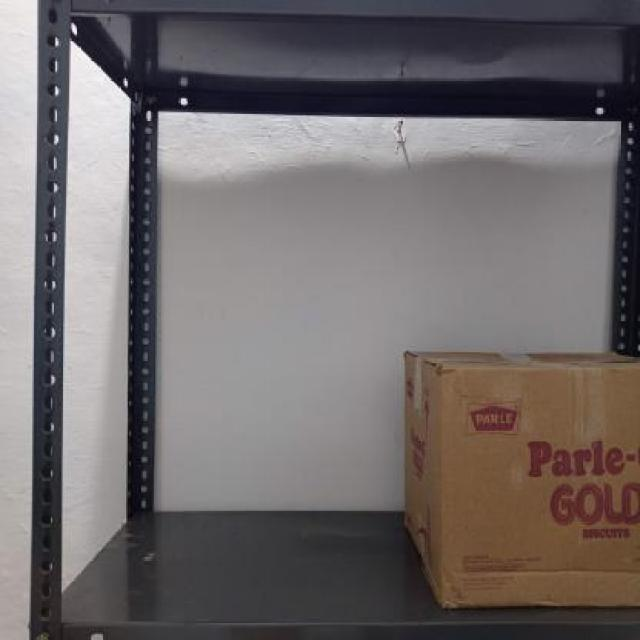box: (437, 362, 640, 604)
